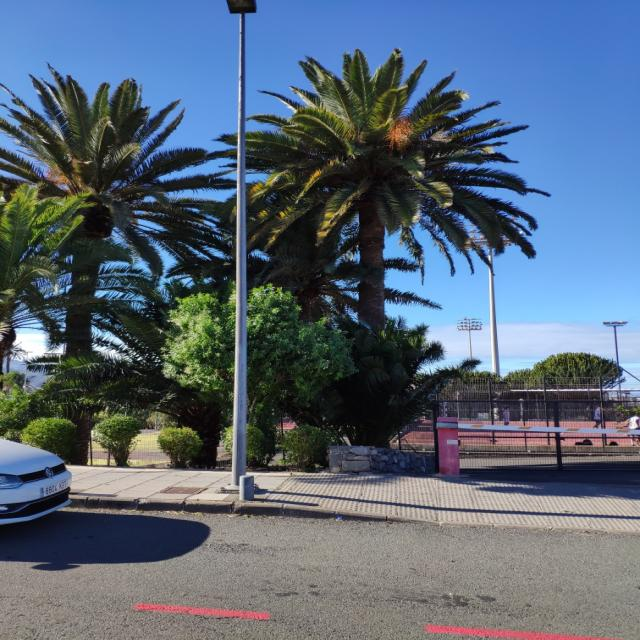Palm-Trees: (230, 44, 530, 338), (0, 80, 204, 359)
